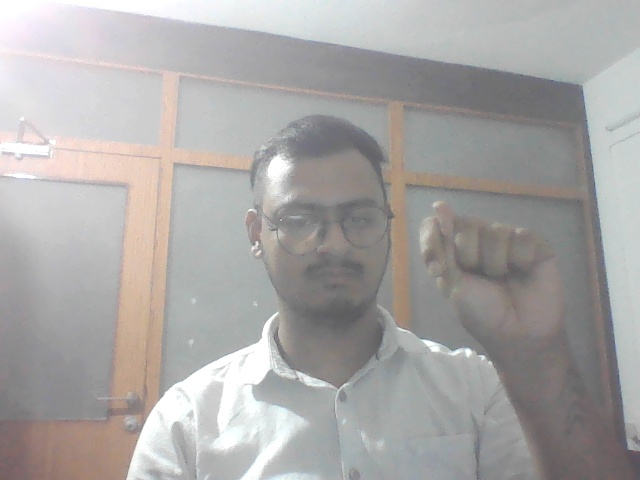Toilet: (416, 191, 588, 356)
